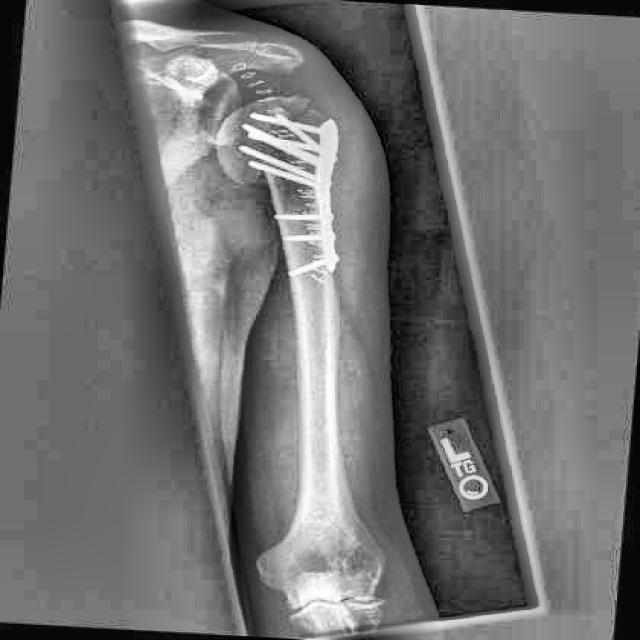humerus: (279, 93, 330, 123), (249, 163, 276, 192)
